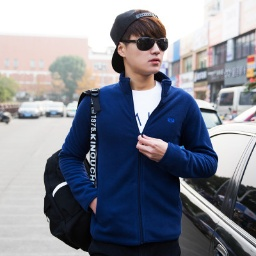face: (112, 13, 167, 75)
